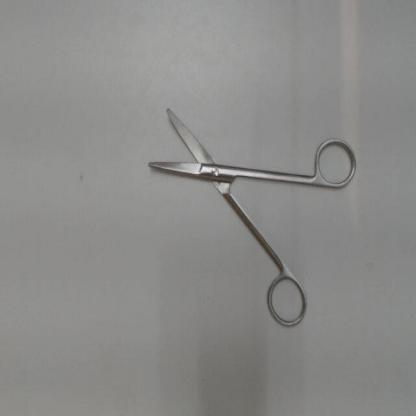Curved Mayo Scissors: (142, 93, 360, 332)
